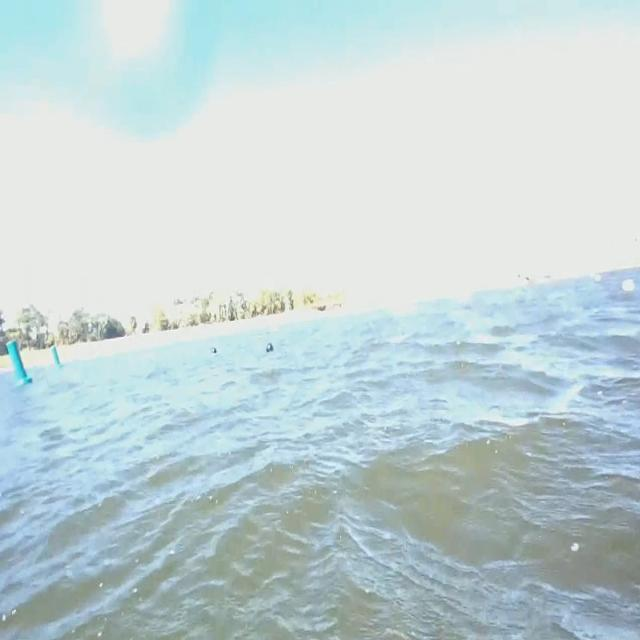black-buoy: (266, 344, 273, 353), (211, 348, 218, 353)
green-column-buoy: (4, 338, 32, 383), (52, 344, 64, 368)
